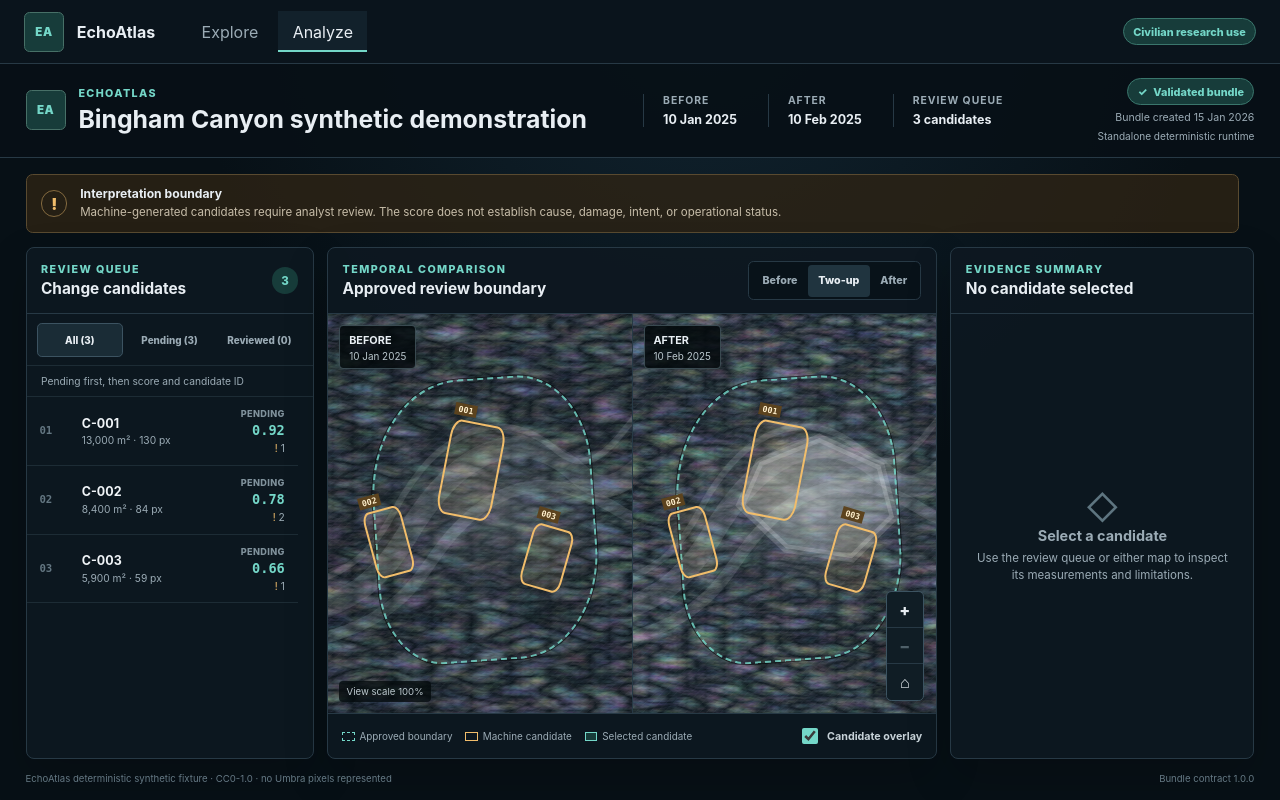
Scenario: App › renders an unavailable external source as text while keeping evidence usable
What coordinates should you click on to do the following:
click the button "01 C-001 13,000 m² · 130 px Pending 0.92 ! 1"
I would click on:
 (162, 431)
Its box is [27,397,298,466].
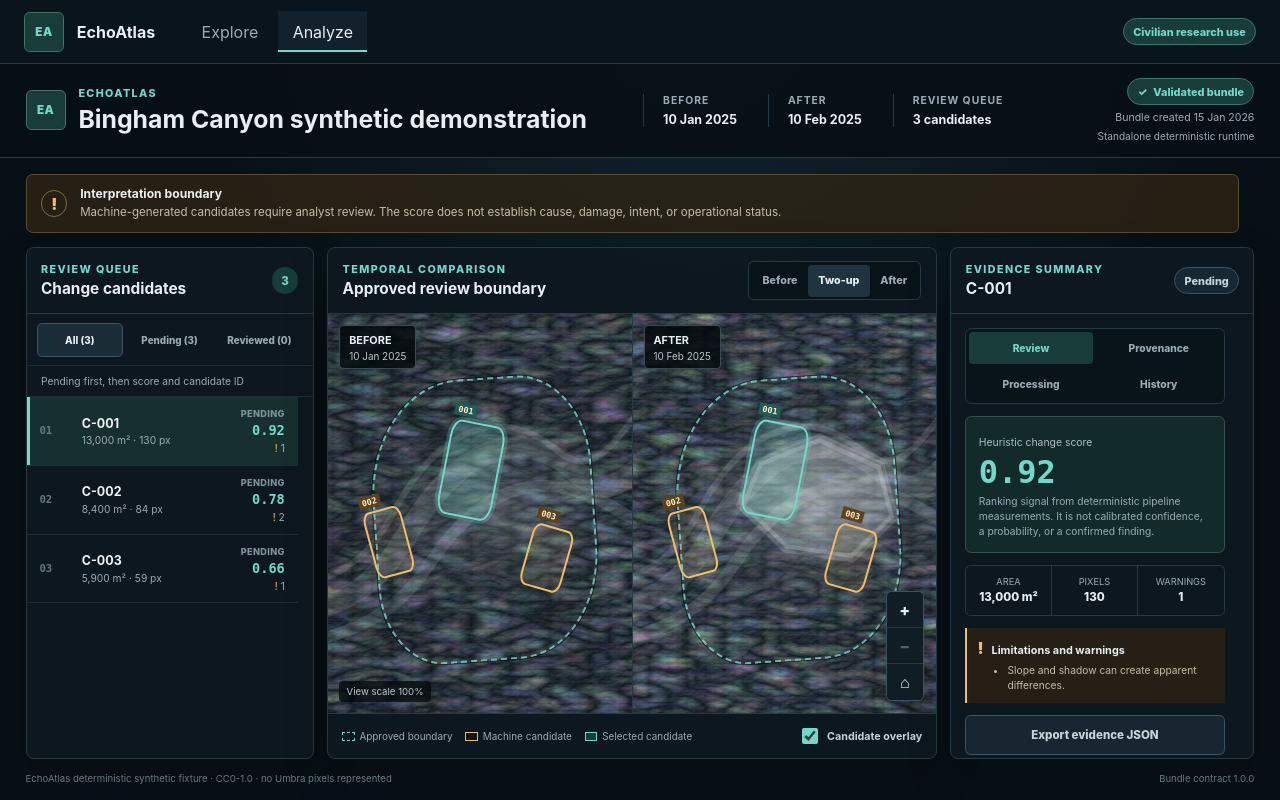
What coordinates should you click on to do the following:
click the tab "Provenance"
I would click on:
 (1159, 348)
Its box is [1097,332,1221,364].
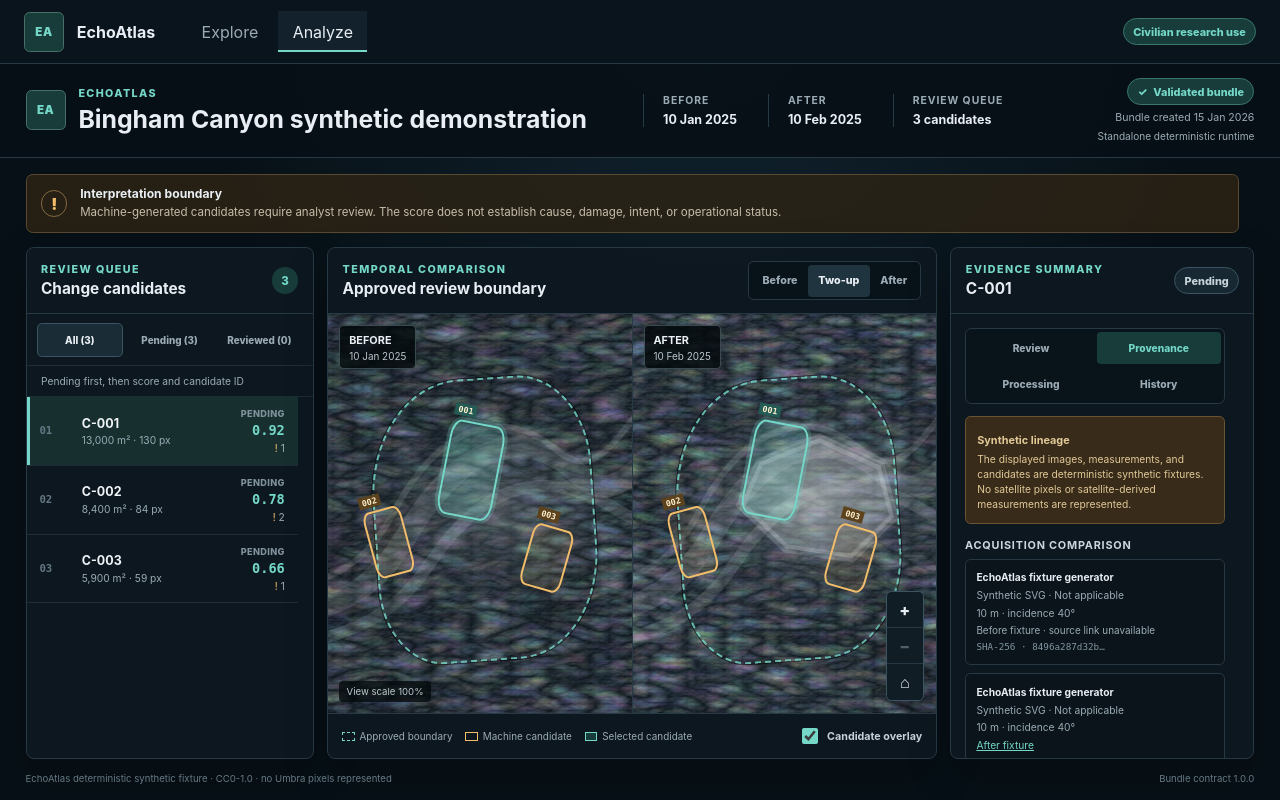
Check: the text "Before fixture · source link unavailable" is shown, box [976,624,1155,636]
Check: the link "After fixture" is shown, box [976,738,1034,753]
